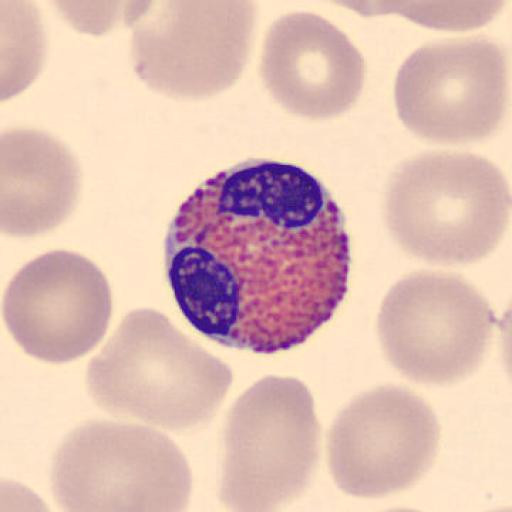RBC: (88, 304, 235, 432), (381, 149, 512, 267), (218, 372, 322, 512), (374, 268, 495, 386), (46, 417, 196, 511), (324, 382, 442, 500), (2, 246, 116, 366), (392, 34, 510, 148), (126, 1, 258, 102), (257, 9, 367, 122), (2, 126, 83, 240), (318, 0, 505, 34), (2, 1, 48, 102), (374, 0, 506, 34), (38, 0, 156, 38), (42, 0, 124, 38), (306, 0, 428, 20), (2, 476, 63, 512), (121, 0, 156, 30), (359, 503, 441, 512)
WBC: (164, 156, 352, 357)
